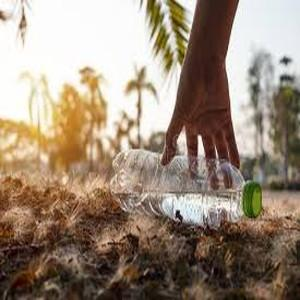Plastic: (109, 148, 266, 227)
